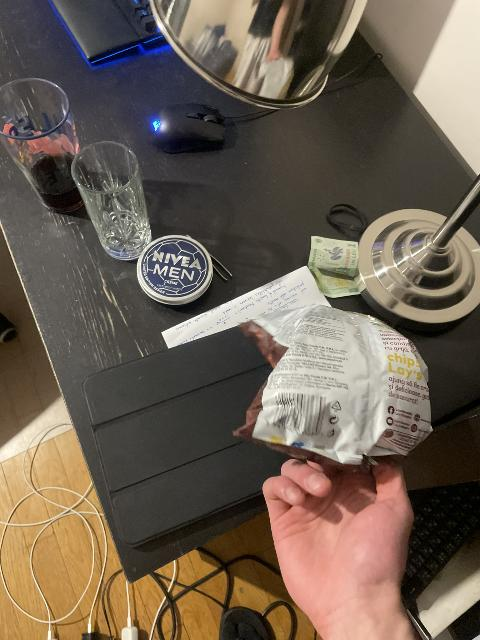Lays Beef Grilled Ribs 125g: (233, 305, 430, 470)
